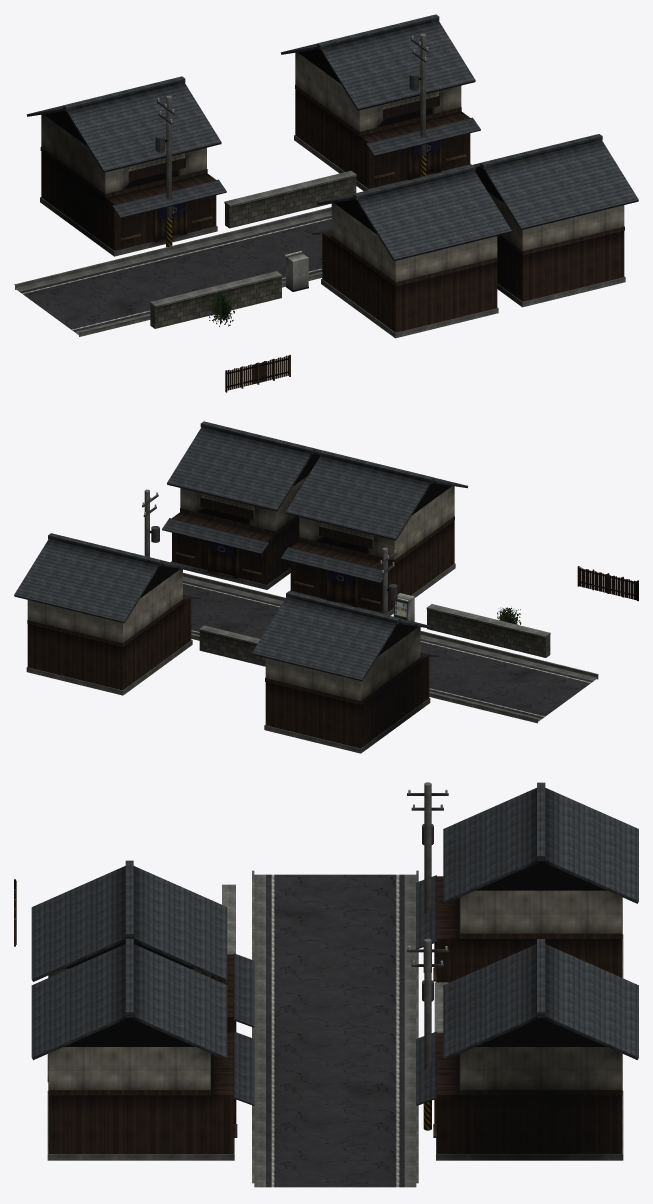
File: street_centre.glb
3 views of the same model, one above another, from view 1: azimuth 30°, elevation 25°; view 2: azimuth 150°, elevation 25°; view 3: azimuth 270°, elevation 25° (orthographic). The views are drawn at different scales.
Visible parts, largest first — view 1: machiya.040, machiya.015, machiya.016, machiya.041, road.004, road.005, stone_wall.021, stone_wall.032, road.006, stone_wall.022, stone_wall.033, wood_fence.038 (+4 smaller); view 2: machiya.016, machiya.015, machiya.040, machiya.041, road.004, road.006, stone_wall.032, road.005, road.007, stone_wall.033, stone_wall.022, wood_fence.038 (+3 smaller); view 3: machiya.041, machiya.016, machiya.015, machiya.040, road.007, road.004, road.005, road.006, utility_pole.066, utility_pole.065.
Boxes of the visible parts, <box> form: machiya.040: <box>311,165,511,338</box>; machiya.015: <box>26,76,226,256</box>; machiya.016: <box>280,14,480,190</box>; machiya.041: <box>473,134,638,307</box>; road.004: <box>14,253,189,336</box>; road.005: <box>141,222,322,292</box>; stone_wall.021: <box>224,186,293,228</box>; stone_wall.032: <box>150,286,218,328</box>; road.006: <box>268,207,331,264</box>; stone_wall.022: <box>288,170,356,212</box>; stone_wall.033: <box>214,271,282,310</box>; wood_fence.038: <box>225,355,290,392</box>; machiya.016: <box>14,533,201,695</box>; machiya.015: <box>252,591,439,753</box>; machiya.040: <box>280,450,468,615</box>; machiya.041: <box>162,421,322,589</box>; road.004: <box>429,645,598,723</box>; road.006: <box>191,587,285,640</box>; stone_wall.032: <box>486,618,550,657</box>; road.005: <box>420,631,479,684</box>; road.007: <box>183,573,241,627</box>; stone_wall.033: <box>426,604,490,643</box>; stone_wall.022: <box>199,625,260,664</box>; wood_fence.038: <box>577,566,638,601</box>; machiya.041: <box>31,939,254,1160</box>; machiya.016: <box>416,939,638,1160</box>; machiya.015: <box>416,782,638,982</box>; machiya.040: <box>31,860,254,1081</box>; road.007: <box>252,1105,418,1187</box>; road.004: <box>252,870,418,952</box>; road.005: <box>252,948,418,1030</box>; road.006: <box>252,1027,418,1109</box>; utility_pole.066: <box>407,938,448,1130</box>; utility_pole.065: <box>407,782,448,972</box>.
Bounding box in the file's own units: 32 × 9.1 × 27.03.
Materials: 21 (21 with a texture image).
